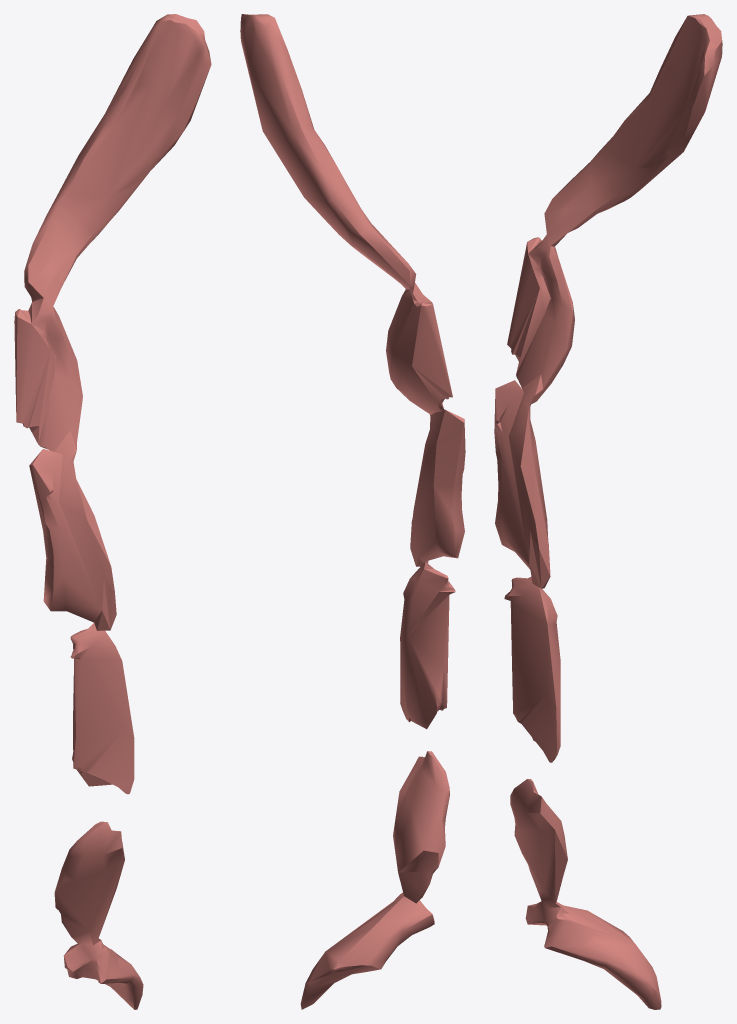
File: fma71443_fj1553m.glb
3 renders of one model, left to right at view 1: azimuth 30°, elevation 25°; view 2: azimuth 150°, elevation 25°; view 3: azimuth 330°, elevation 25°, orthographic. The views are drawn at different scales.
Visible parts, largest first — view 1: FMA71443_FJ1553M; view 2: FMA71443_FJ1553M; view 3: FMA71443_FJ1553M.
Part boxes in pixels (box(x1,y1,x2,y2)): FMA71443_FJ1553M: box(14, 14, 211, 1009); FMA71443_FJ1553M: box(240, 14, 465, 1009); FMA71443_FJ1553M: box(494, 14, 722, 1009).
Size of the model in its own units: 0.0183 by 0.0867 by 0.0114.
